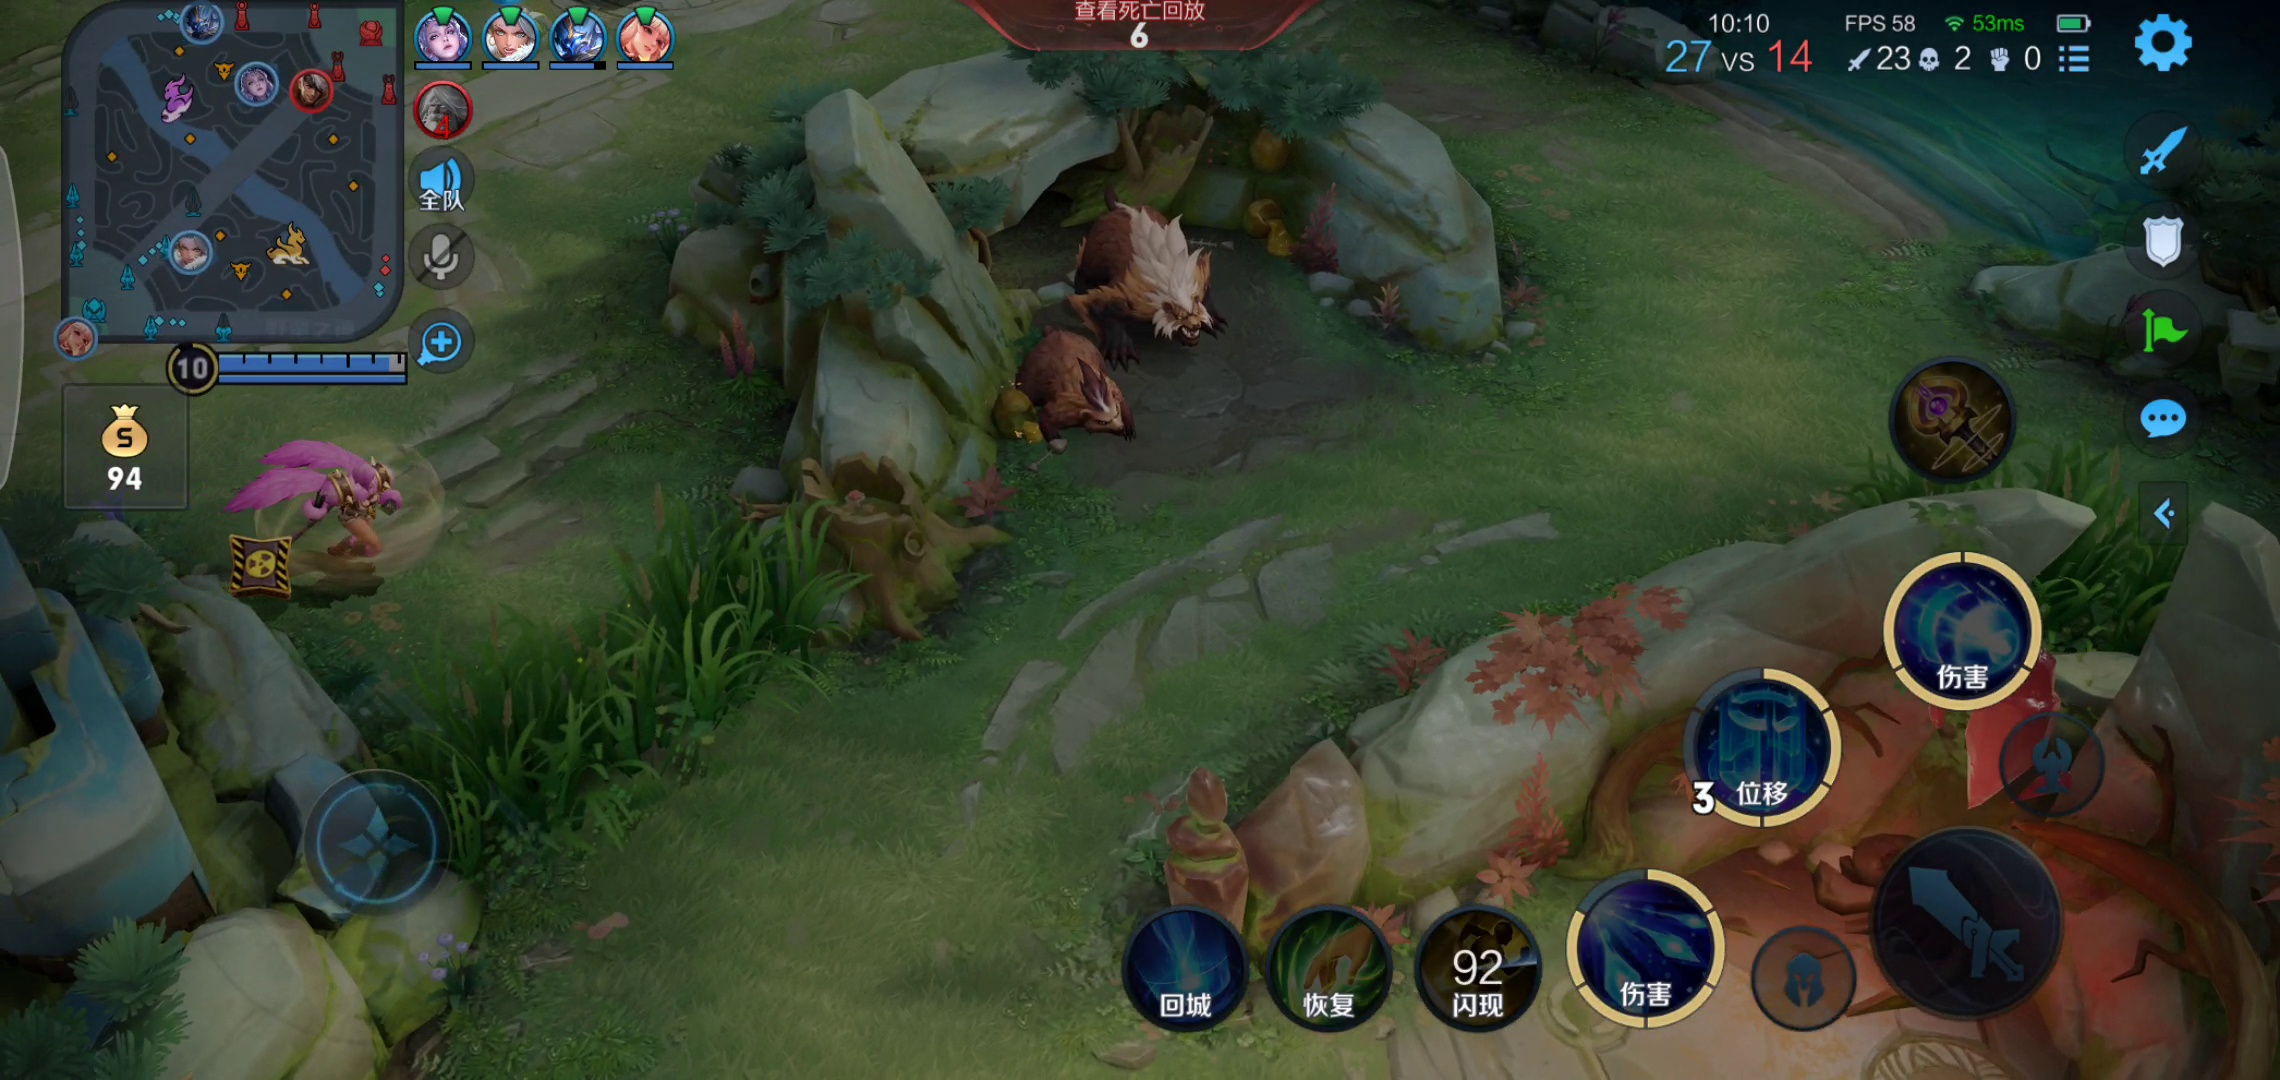grass: (394, 547, 826, 862), (1855, 411, 2204, 670)
hero: (224, 443, 455, 628)
wild_monster: (1002, 193, 1251, 456)
